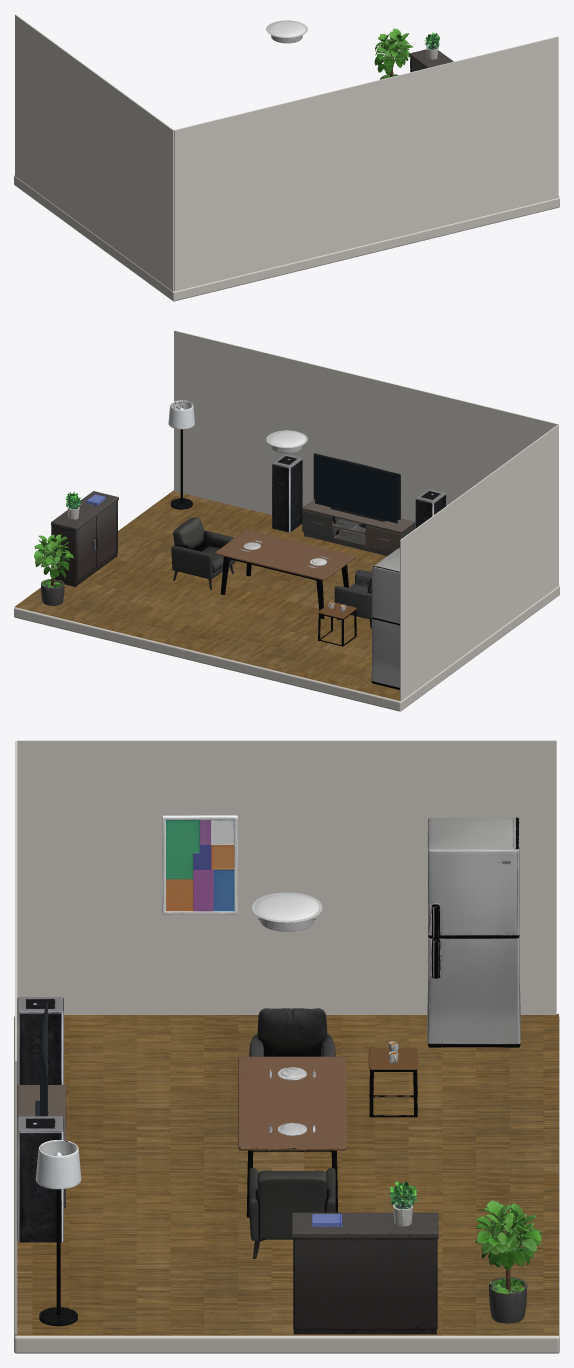
Rendered from livingroom-supported.glb.
The picture shows the model from 3 angles, top to bottom: view 1: azimuth 30°, elevation 25°; view 2: azimuth 150°, elevation 25°; view 3: azimuth 270°, elevation 25°; orthographic projection. The views are drawn at different scales.
Visible parts, largest first — view 1: wall_north_01, wall_east_01, Display foundation, corner_potted_plant_01_mesh, central_ceiling_light_01_mesh, west_wall_cabinet_01_mesh; view 2: wall_north_01, floor_01, wall_east_01, Display foundation, dining_table_01_mesh, west_wall_cabinet_01_mesh, Television screen, tall_fridge_01_mesh, low_tv_stand_01_mesh, short_side_armchairs_01_mesh, flanking_speakers_01_mesh, corner_potted_plant_01_mesh (+6 smaller); view 3: wall_east_01, floor_01, tall_fridge_01_mesh, west_wall_cabinet_01_mesh, Display foundation, dining_table_01_mesh, east_wall_poster_01_mesh, short_side_armchairs_01_mesh, corner_potted_plant_01_mesh, flanking_speakers_01_mesh, short_side_armchairs_02_mesh, flanking_speakers_02_mesh (+7 smaller).
Boxes of the visible parts, x1,y1,x2,y2 form: wall_north_01: (174, 36, 558, 291); wall_east_01: (15, 14, 173, 291); Display foundation: (14, 175, 559, 301); corner_potted_plant_01_mesh: (374, 28, 412, 79); central_ceiling_light_01_mesh: (266, 20, 307, 43); west_wall_cabinet_01_mesh: (409, 49, 453, 72); wall_north_01: (174, 330, 558, 521); floor_01: (15, 490, 400, 700); wall_east_01: (400, 424, 558, 701); Display foundation: (14, 585, 559, 711); dining_table_01_mesh: (215, 530, 355, 619); west_wall_cabinet_01_mesh: (51, 491, 118, 586); Television screen: (315, 456, 397, 523); tall_fridge_01_mesh: (371, 548, 399, 689); low_tv_stand_01_mesh: (302, 499, 415, 555); short_side_armchairs_01_mesh: (171, 517, 235, 589); flanking_speakers_01_mesh: (272, 454, 302, 532); corner_potted_plant_01_mesh: (34, 534, 73, 605); wall_east_01: (17, 740, 556, 1014); floor_01: (15, 1014, 558, 1335); tall_fridge_01_mesh: (427, 817, 520, 1047); west_wall_cabinet_01_mesh: (292, 1212, 438, 1334); Display foundation: (14, 1016, 559, 1353); dining_table_01_mesh: (238, 1056, 346, 1217); east_wall_poster_01_mesh: (162, 815, 237, 914); short_side_armchairs_01_mesh: (249, 1168, 335, 1258); corner_potted_plant_01_mesh: (475, 1200, 542, 1323); flanking_speakers_01_mesh: (17, 1116, 63, 1242); short_side_armchairs_02_mesh: (249, 1008, 335, 1056); flanking_speakers_02_mesh: (17, 997, 63, 1085).
Size of the model in its own units: 7.02 by 2.96 by 5.02.
28 materials, 24 textured.
